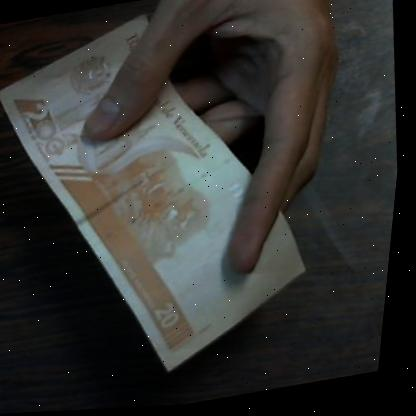vef_back: (0, 0, 346, 409)
